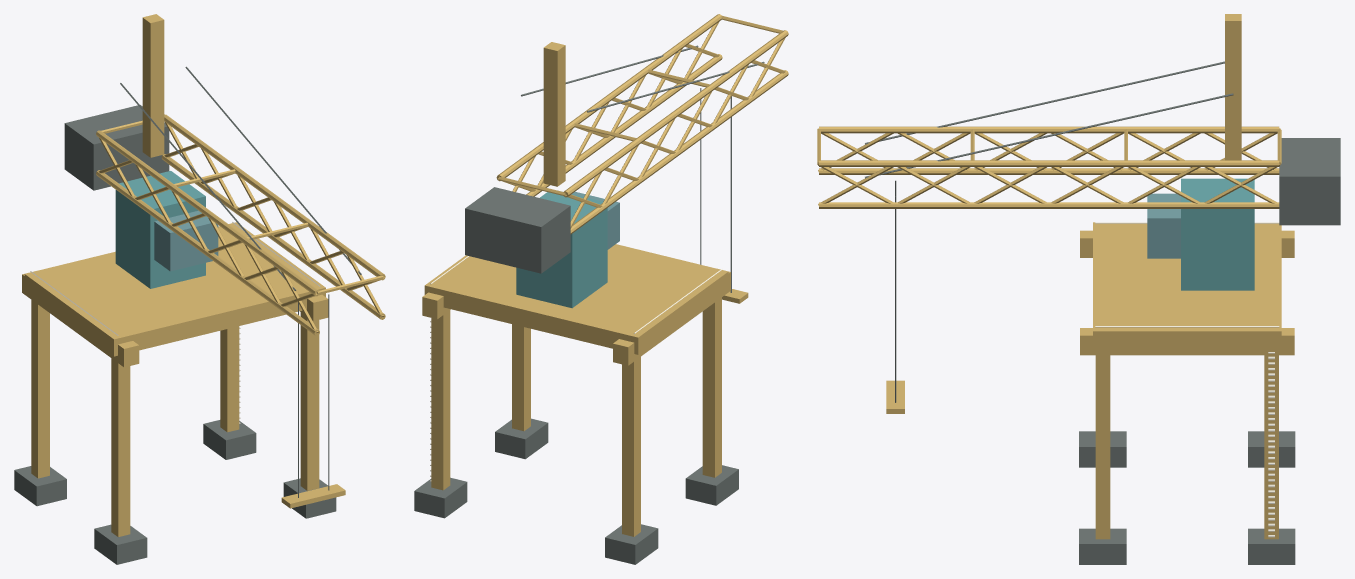
File: dock-crane.glb
3 renders of one model, left to right at view 1: azimuth 30°, elevation 25°; view 2: azimuth 150°, elevation 25°; view 3: azimuth 270°, elevation 25°, orthographic. The views are drawn at different scales.
Size of the model in its own units: 17.4 by 35.3 by 34.11.
